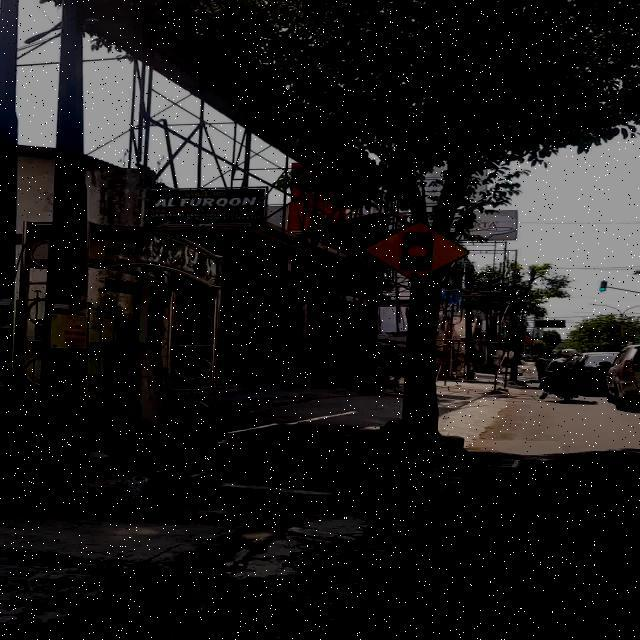Lampu Lalu Lintas: (364, 220, 468, 280)
